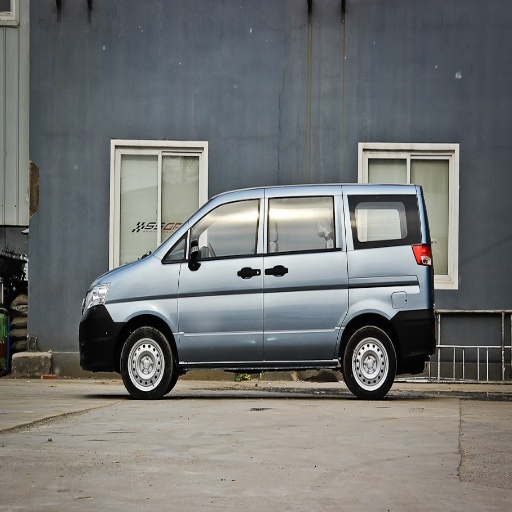back_left_door: (264, 196, 344, 355)
front_left_door: (170, 195, 264, 360)
trunk: (336, 277, 424, 358)
